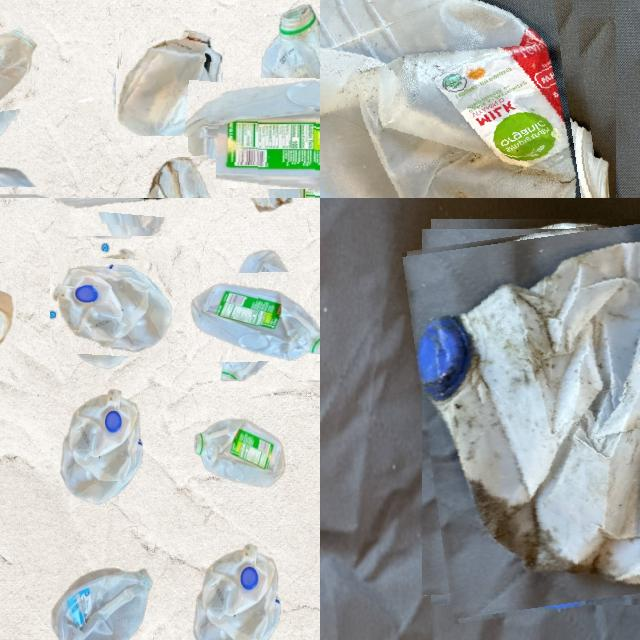milk-jug: (414, 212, 640, 612), (320, 0, 610, 198), (223, 40, 320, 198), (200, 258, 316, 374), (56, 250, 168, 364), (115, 29, 224, 137), (58, 390, 148, 502), (194, 547, 282, 640), (52, 561, 150, 640), (192, 411, 288, 487), (59, 198, 185, 227), (129, 157, 218, 198), (0, 19, 32, 129)
